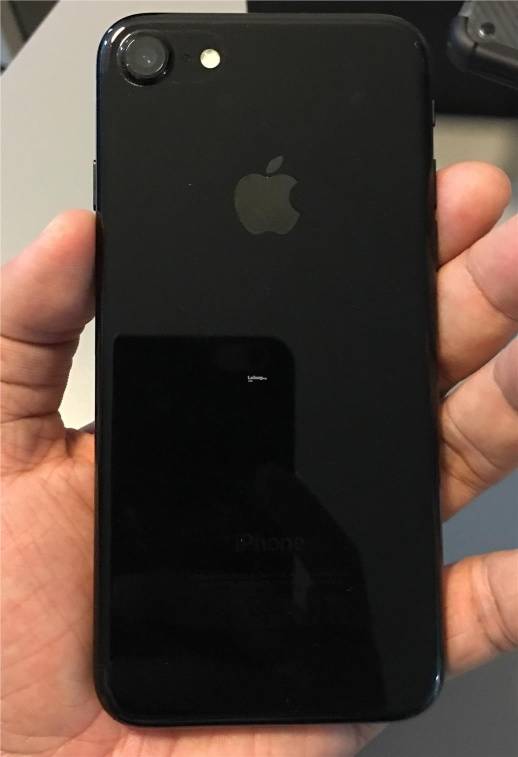apple: (227, 133, 319, 255)
